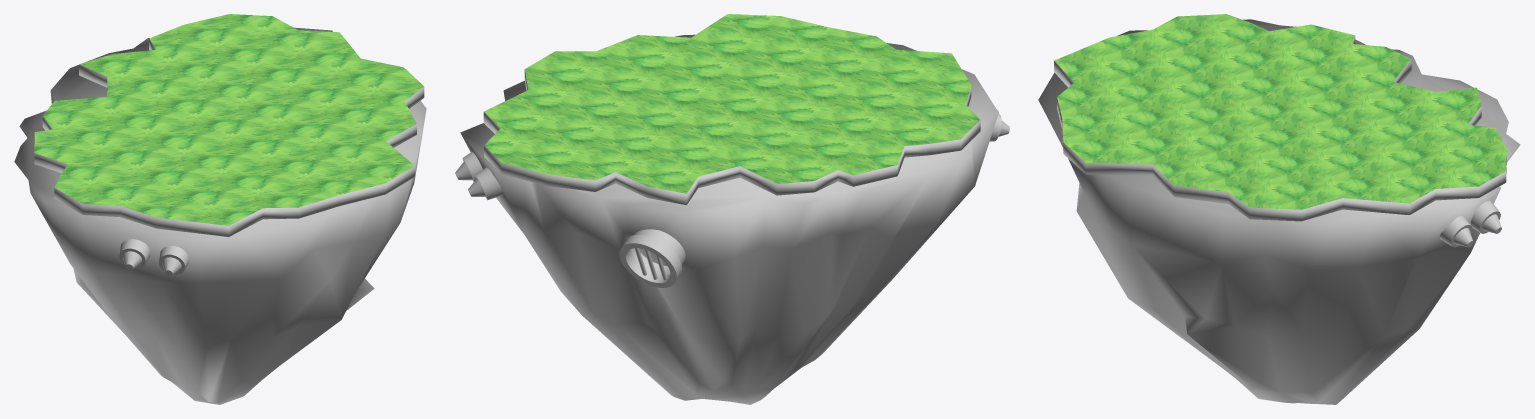
File: Main_Island.fbx
3 views of the same model, side by side, from view 1: azimuth 30°, elevation 25°; view 2: azimuth 150°, elevation 25°; view 3: azimuth 270°, elevation 25° (orthographic). The views are drawn at different scales.
Visible parts, largest first — view 1: Cylinder.035_Cylinder.000, Cylinder.026_Cylinder.000; view 2: Cylinder.026_Cylinder.000, Cylinder.035_Cylinder.000; view 3: Cylinder.026_Cylinder.000, Cylinder.035_Cylinder.000.
Boxes of the visible parts, box(x1,y1,x2,y2) form: Cylinder.035_Cylinder.000: box(34, 14, 424, 225); Cylinder.026_Cylinder.000: box(14, 27, 426, 404); Cylinder.026_Cylinder.000: box(455, 34, 1009, 404); Cylinder.035_Cylinder.000: box(484, 14, 979, 193); Cylinder.026_Cylinder.000: box(1038, 19, 1520, 404); Cylinder.035_Cylinder.000: box(1054, 14, 1506, 209).
Size of the model in its own units: 5228 by 3424 by 5202.
